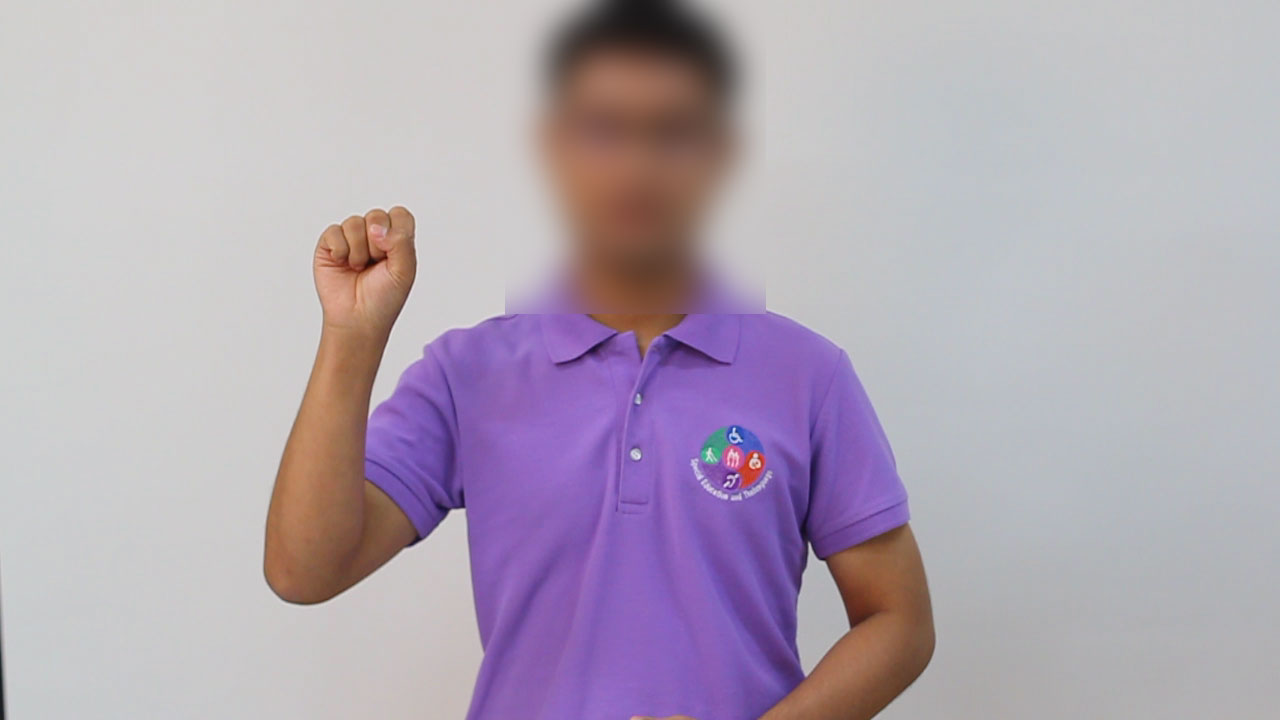sor: (304, 194, 430, 346)
